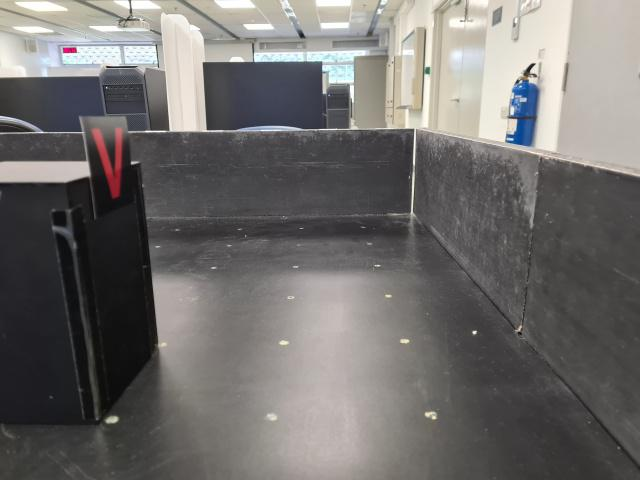v: (78, 114, 138, 220)
